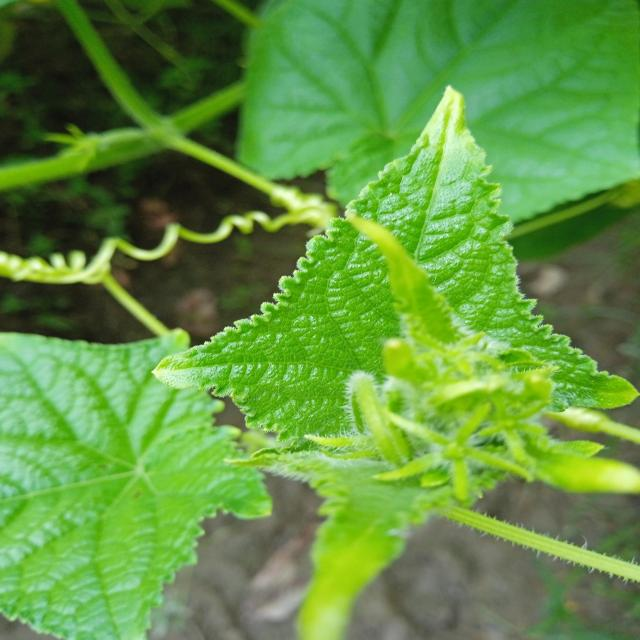cucumber_healthy: (148, 76, 640, 523), (292, 198, 640, 640), (0, 318, 274, 640)
